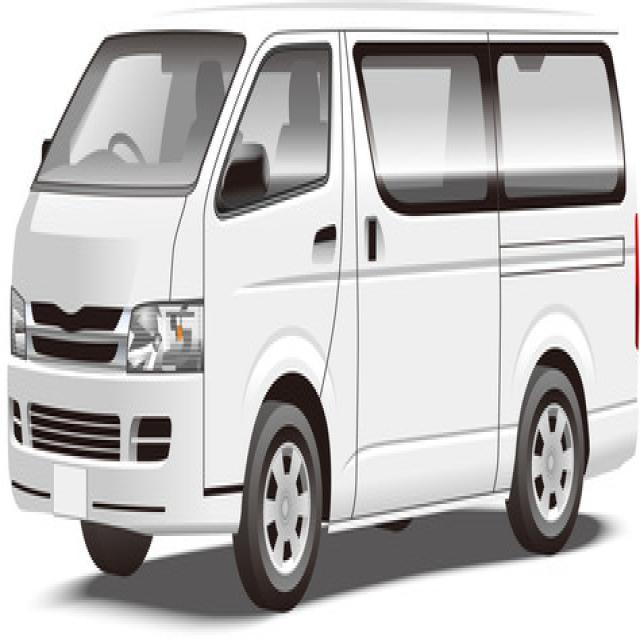van: (5, 5, 639, 608)
